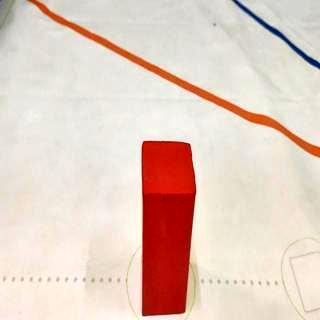redbox: (142, 138, 196, 316)
